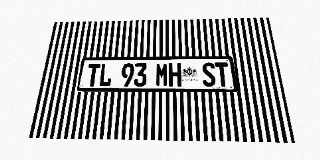3: (134, 63, 147, 86)
9: (121, 63, 134, 86)
H: (168, 63, 181, 86)
L: (98, 63, 113, 86)
M: (155, 63, 168, 86)
S: (201, 62, 216, 86)
T: (215, 62, 230, 86), (86, 63, 101, 86)
